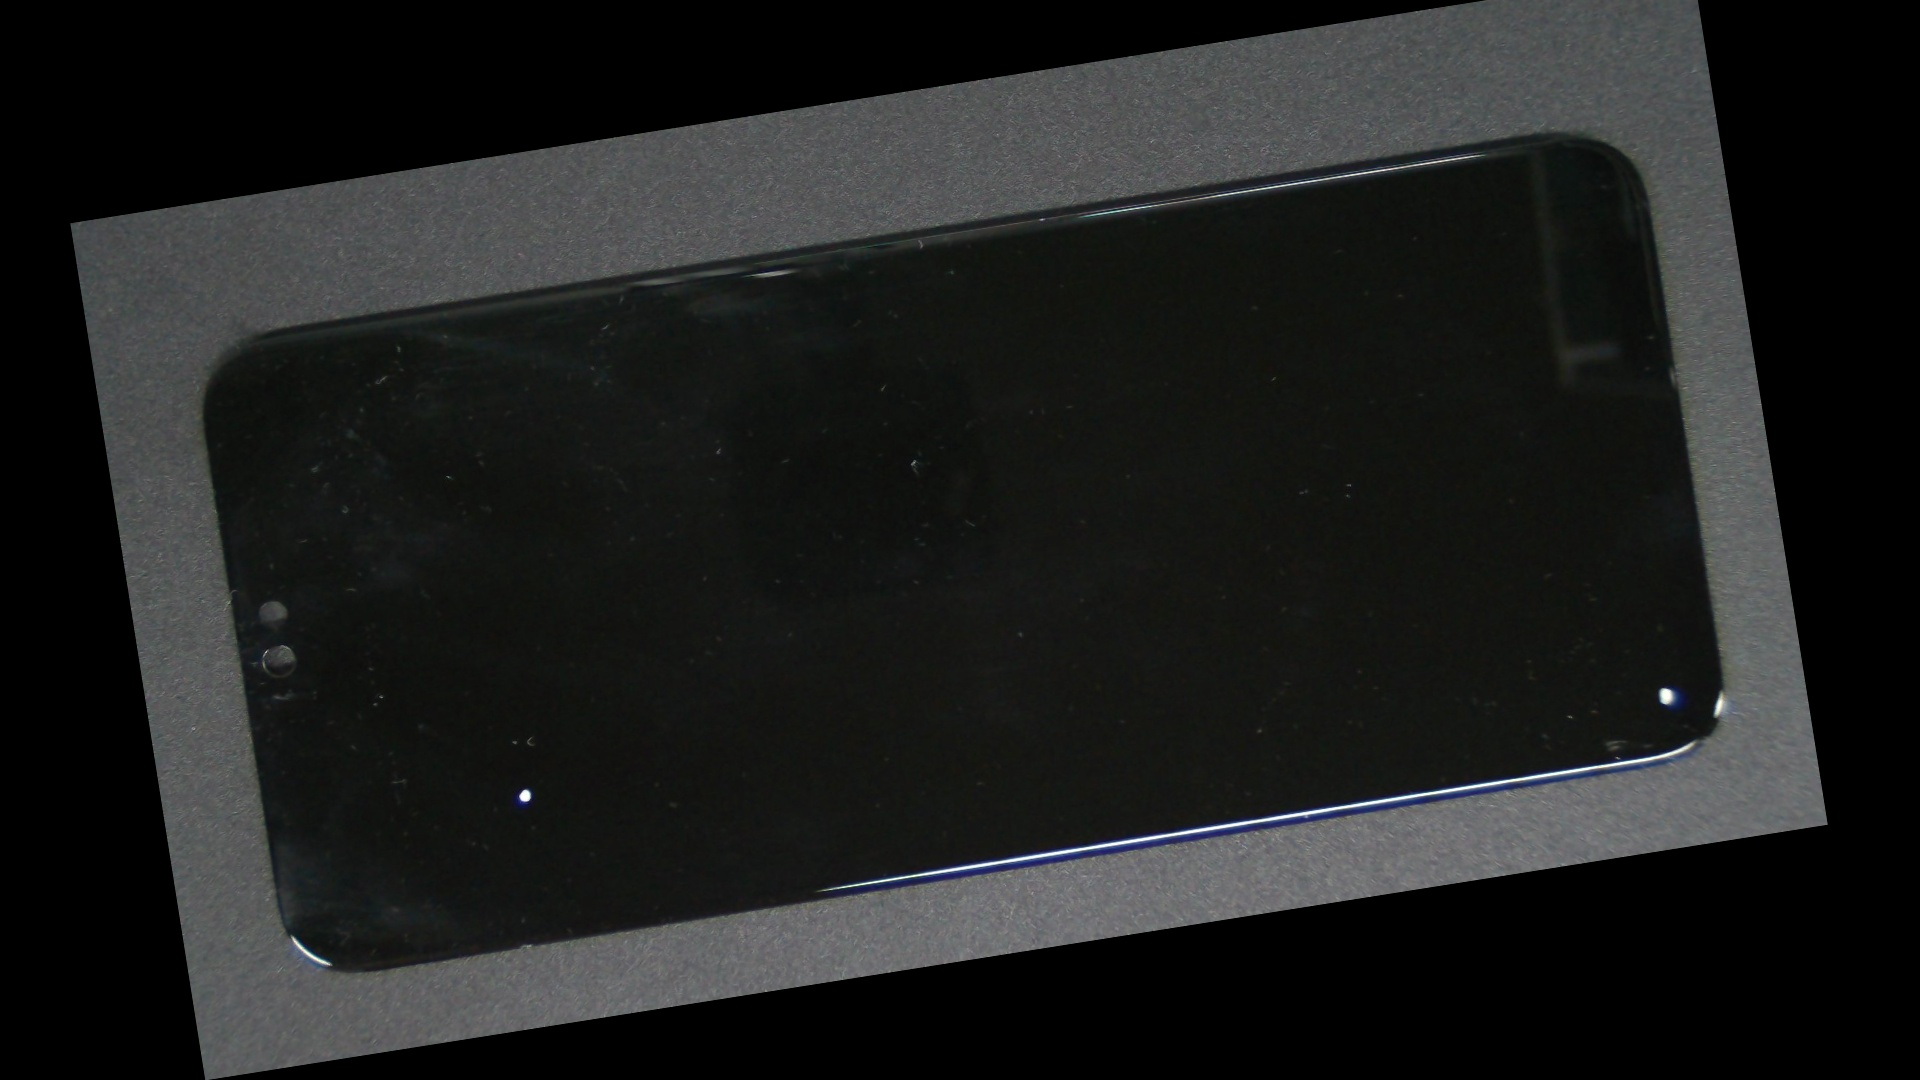oil: (866, 315, 1828, 964), (299, 447, 735, 1052)
